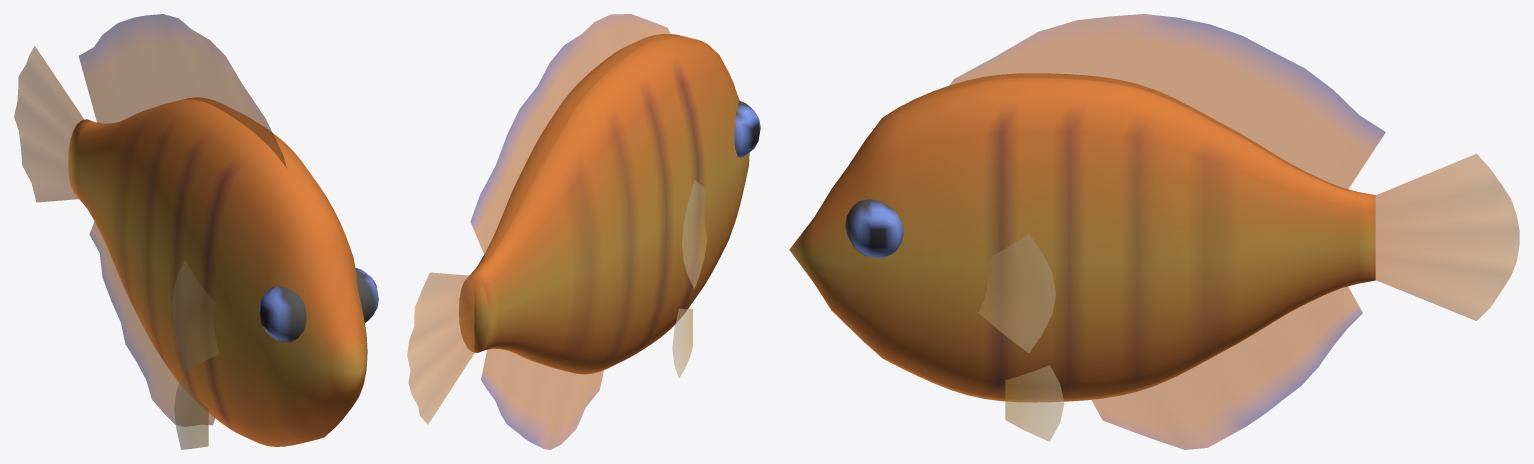
File: fish_flame_angel.glb
3 views of the same model, side by side, from view 1: azimuth 30°, elevation 25°; view 2: azimuth 150°, elevation 25°; view 3: azimuth 270°, elevation 25° (orthographic). The views are drawn at different scales.
Parts seen in each view (by area): view 1: FishFlameAngel; view 2: FishFlameAngel; view 3: FishFlameAngel.
Boxes of the visible parts, x1=… form: FishFlameAngel: x1=14, y1=14, x2=378, y2=449; FishFlameAngel: x1=407, y1=14, x2=760, y2=449; FishFlameAngel: x1=789, y1=14, x2=1519, y2=449.
Size of the model in its own units: 0.0281 by 0.0875 by 0.1334.
